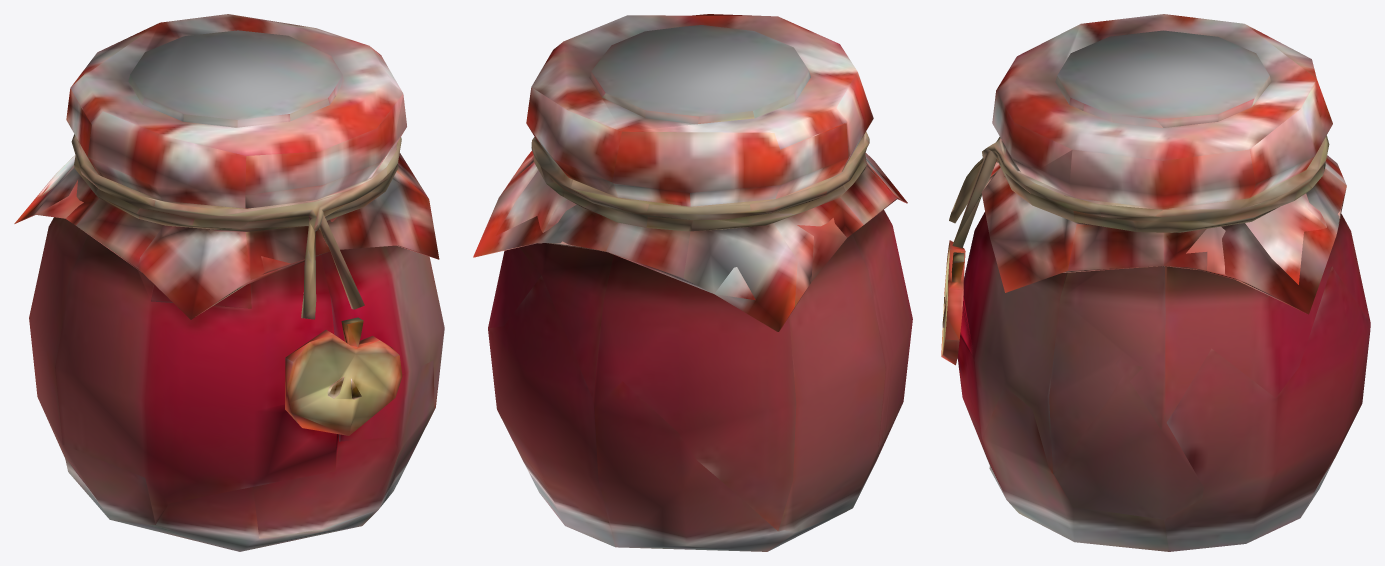
The model's file is g_guojiang.glb.
3 views of the same model, side by side, from view 1: azimuth 30°, elevation 25°; view 2: azimuth 150°, elevation 25°; view 3: azimuth 270°, elevation 25° (orthographic). The views are drawn at different scales.
Visible parts, largest first — view 1: node_0; view 2: node_0; view 3: node_0.
Boxes of the visible parts, x1,y1,x2,y2 form: node_0: (14,14,444,551); node_0: (473,14,912,551); node_0: (941,14,1370,551).
Size of the model in its own units: 0.9025 by 0.9767 by 0.9234.
1 material, 1 textured.
